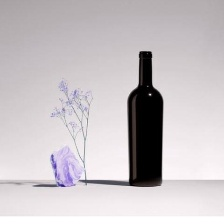bottle: (123, 48, 165, 189)
